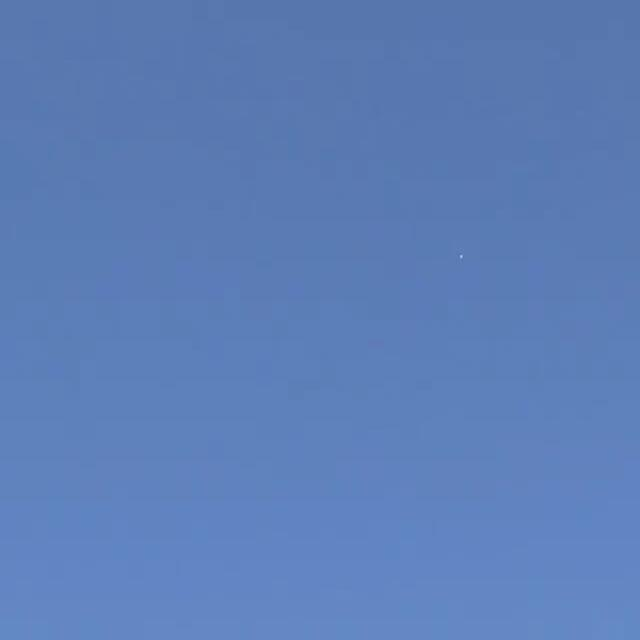AirPlane: (450, 241, 474, 273)
